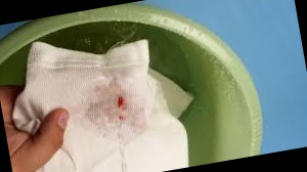blood: (113, 95, 128, 121)
